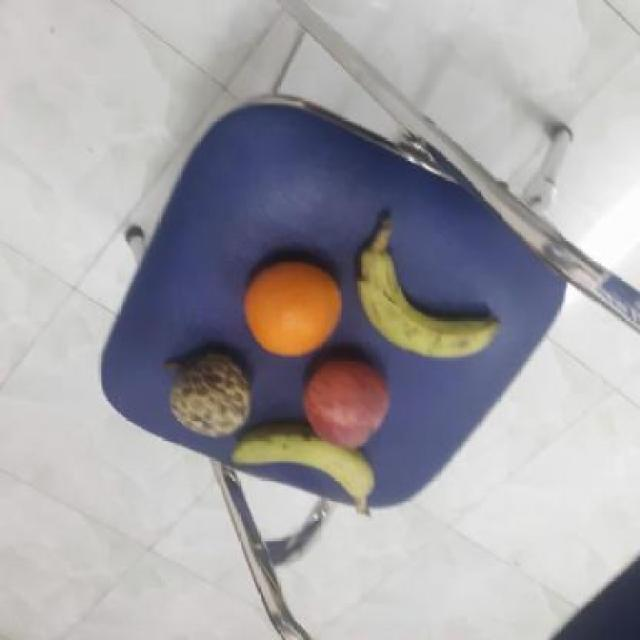apple: (300, 358, 394, 454)
banana: (355, 243, 500, 359), (228, 428, 382, 508)
oren: (242, 258, 344, 354)
sugar apple: (167, 350, 255, 438)
